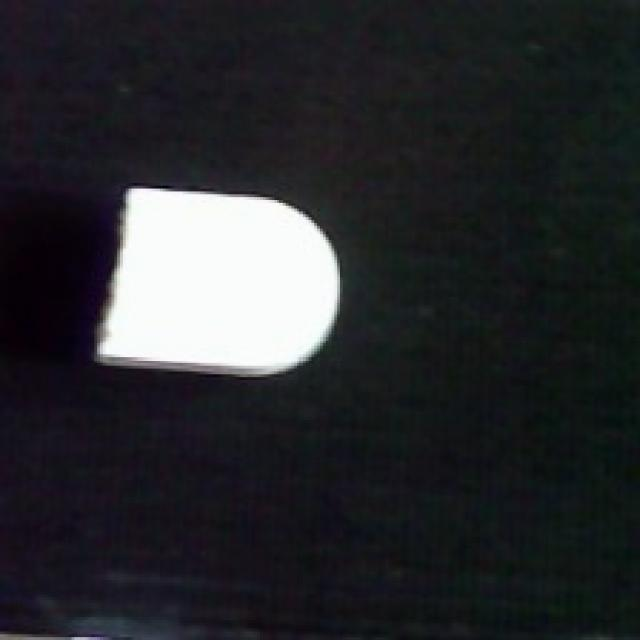defected: (86, 177, 346, 380)
